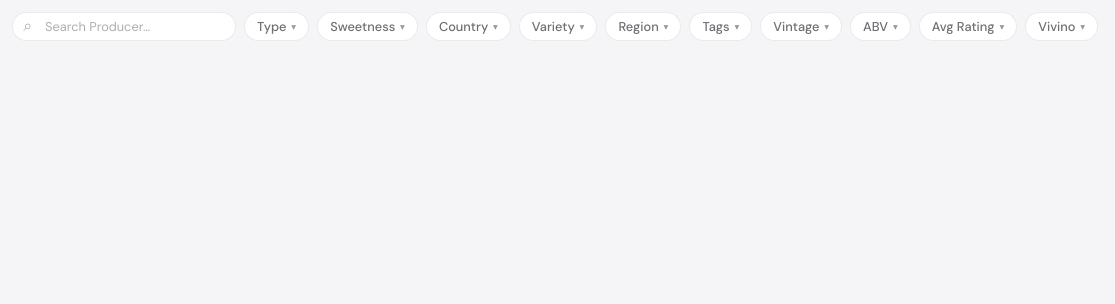
it: variety dropdown includes Blend and Single Variety special options
Click the button with test id "filter-dropdown-variety" at (558, 26), box [519,12,597,41]
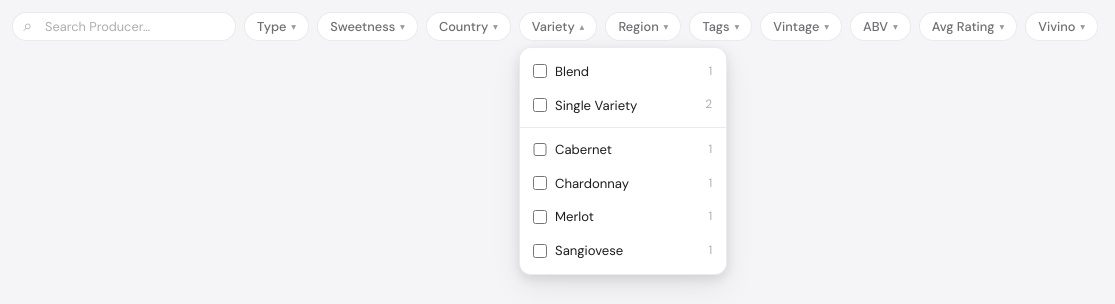
Expected: the text "Blend" is shown, [555,61,589,82]
Expected: the text "Single Variety" is shown, [555,94,637,116]
